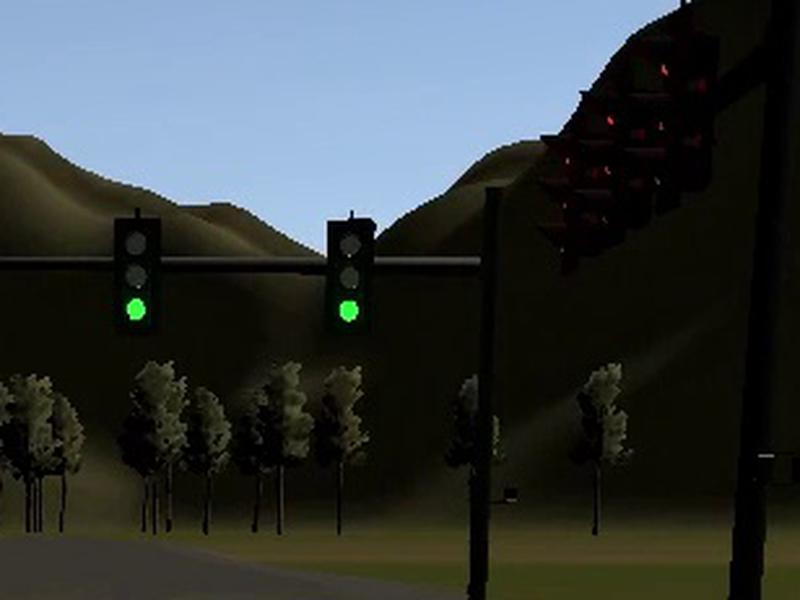Green: (326, 218, 376, 334), (114, 217, 160, 336)
